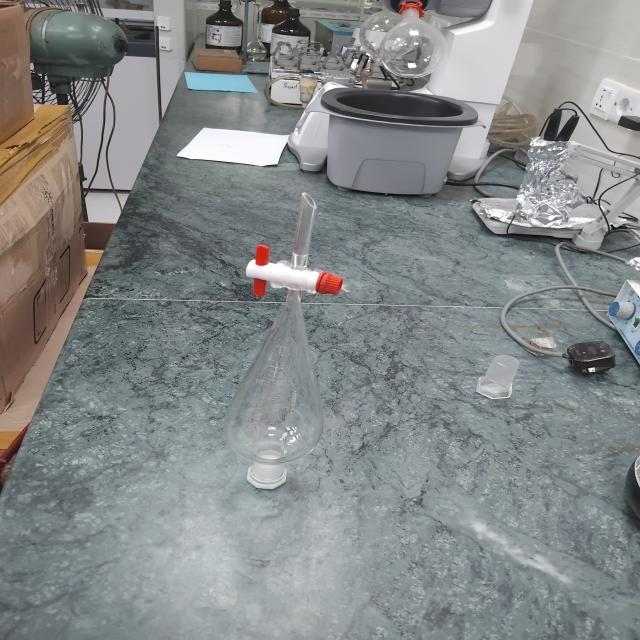Separating_Funnel: (175, 169, 382, 516)
